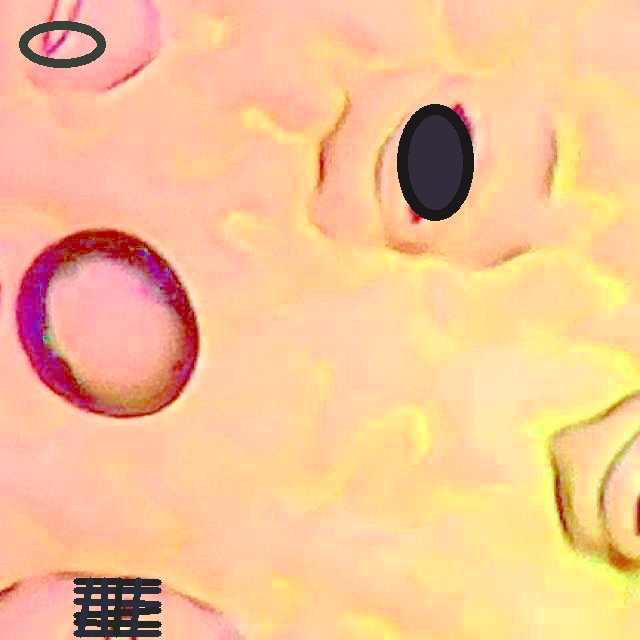open: (397, 103, 473, 220), (73, 577, 161, 637), (19, 21, 105, 67)
